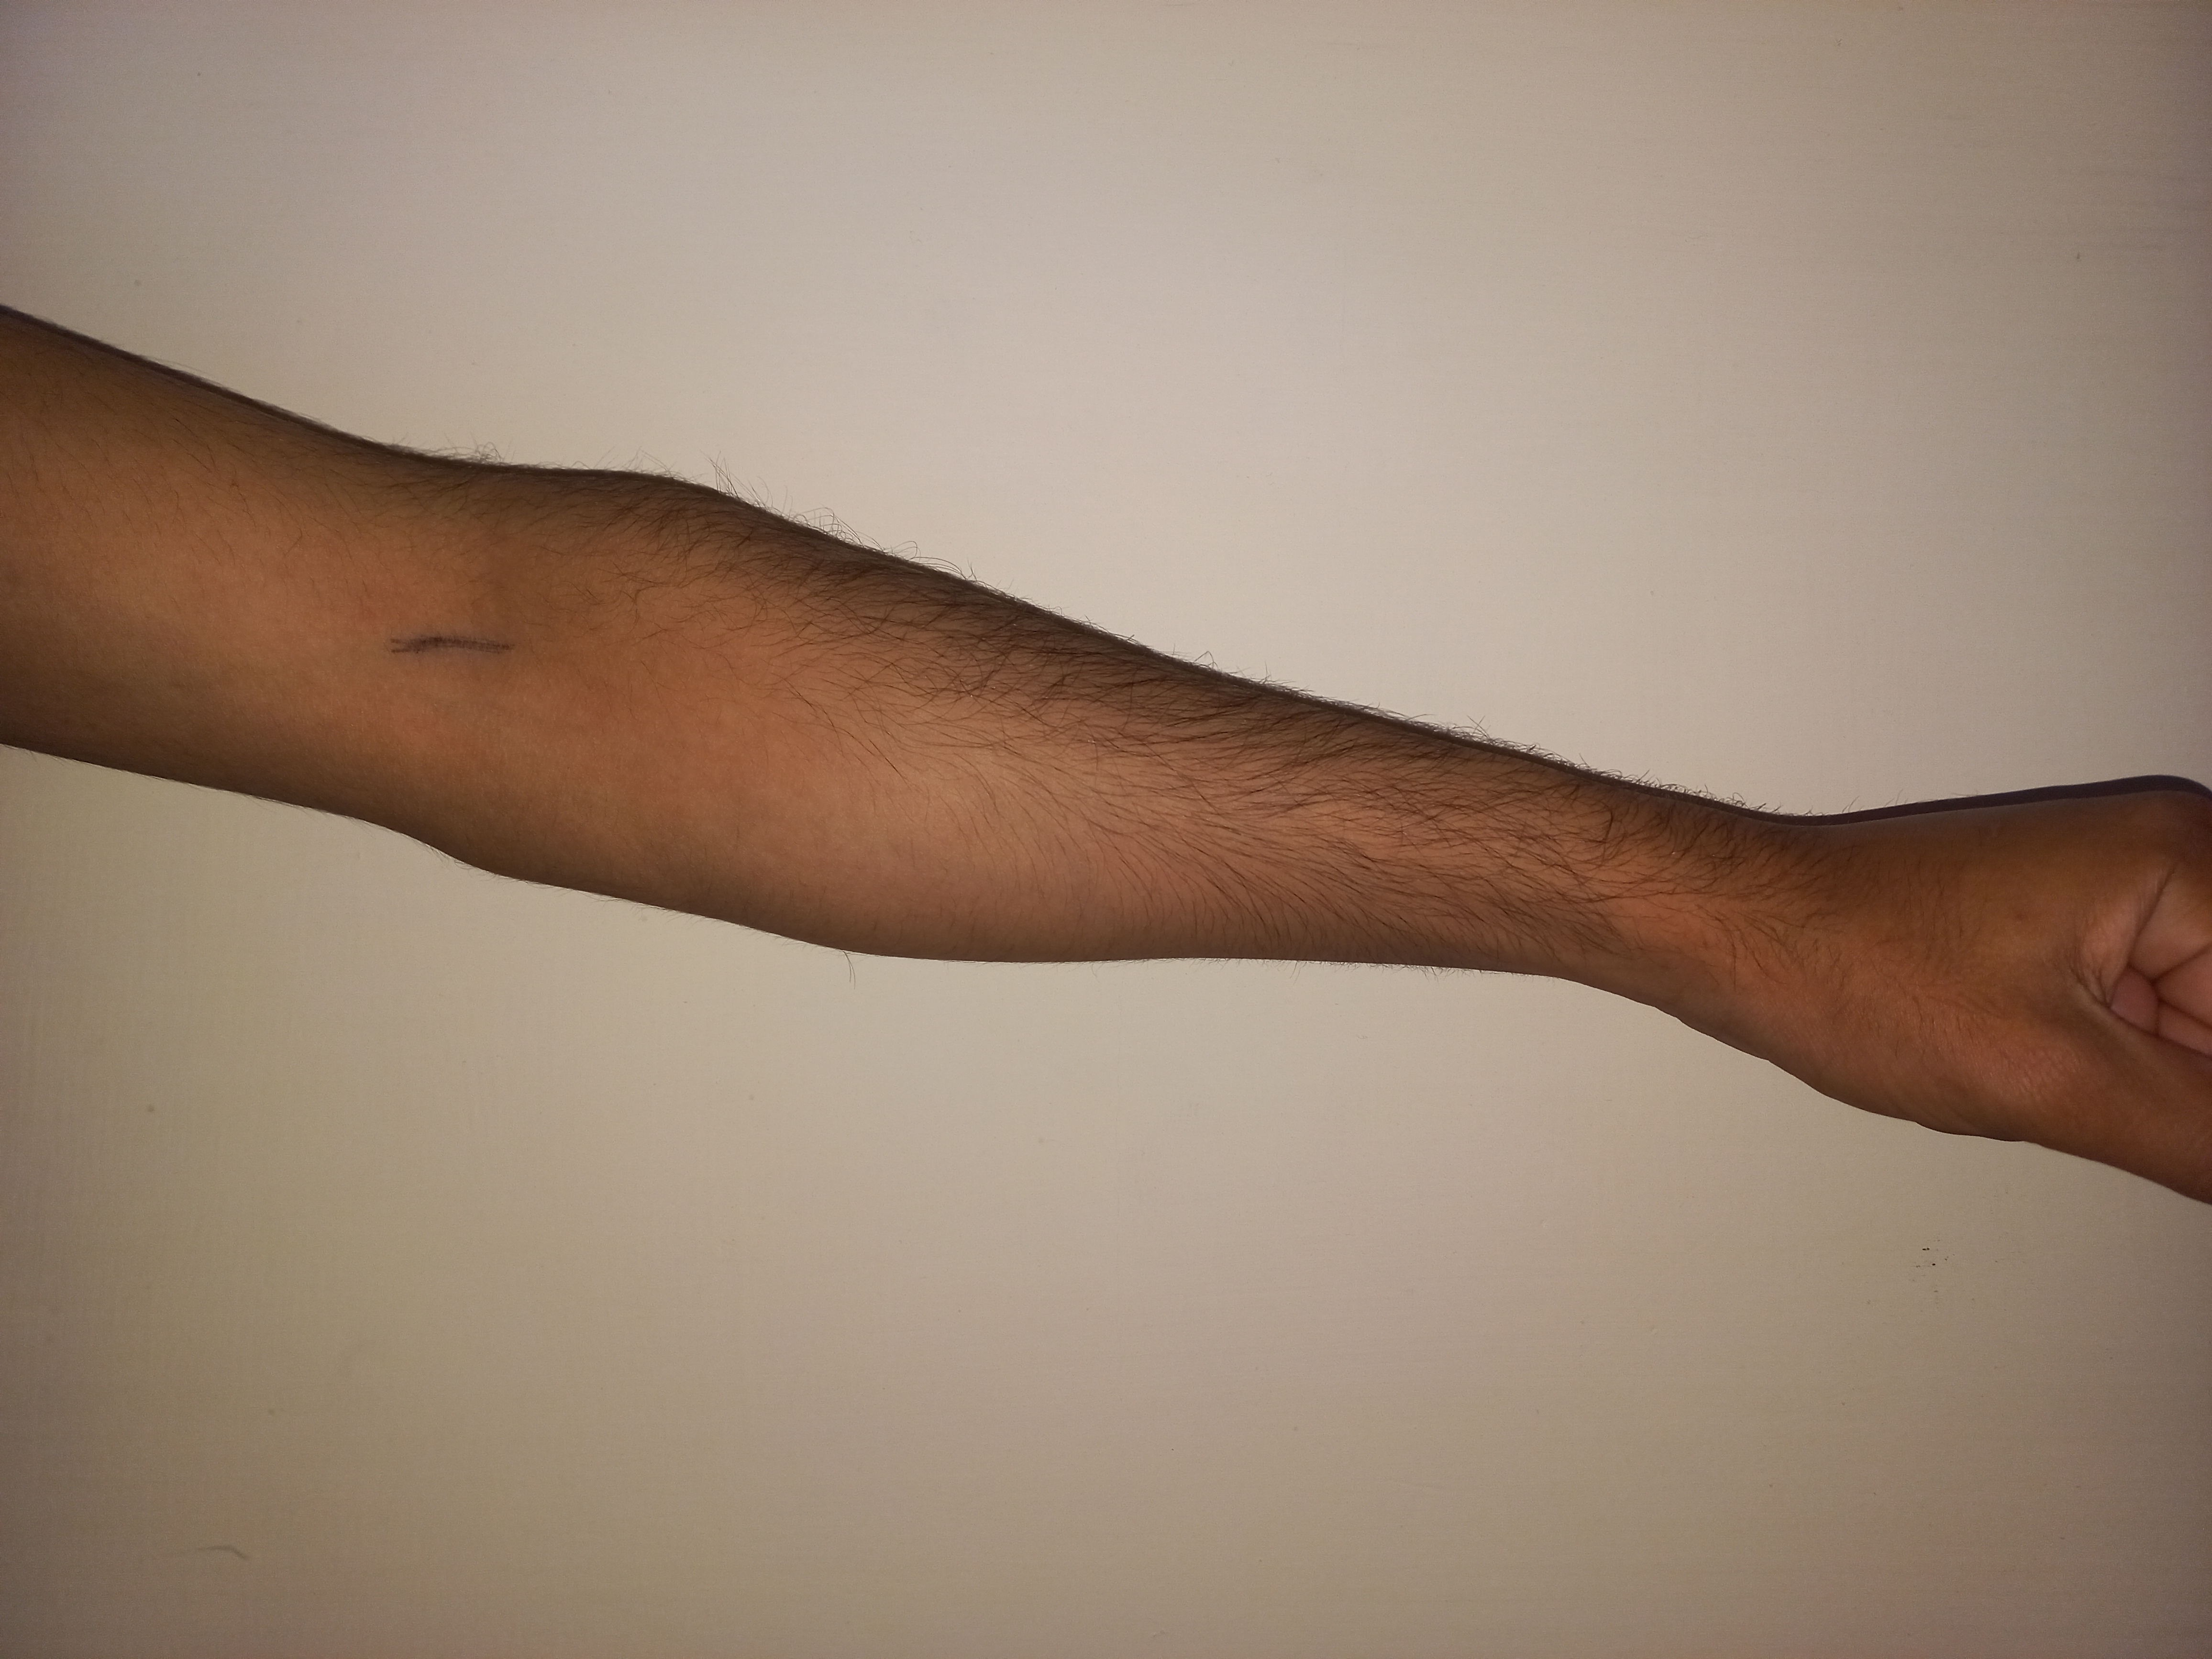vein: (381, 615, 533, 676)
